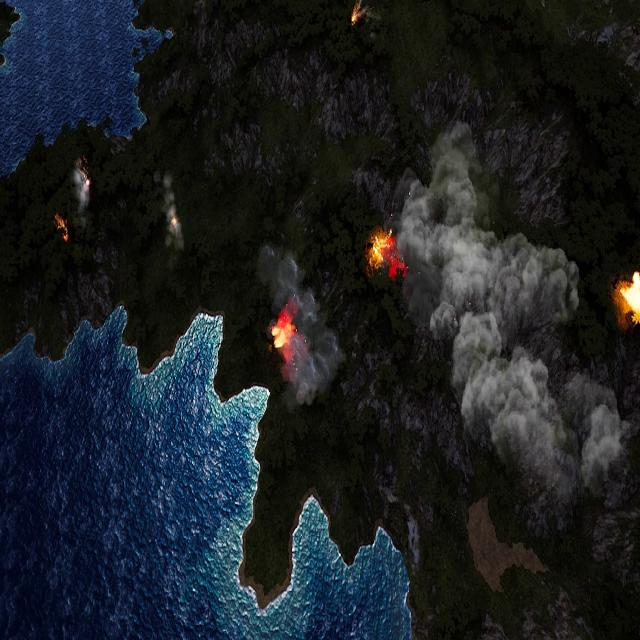fire: (367, 231, 407, 281), (619, 270, 640, 320), (272, 312, 296, 354), (56, 213, 70, 240), (351, 2, 361, 24), (172, 214, 178, 228)
smoke: (391, 122, 625, 507), (258, 244, 343, 410), (156, 170, 182, 251), (70, 160, 90, 225)
